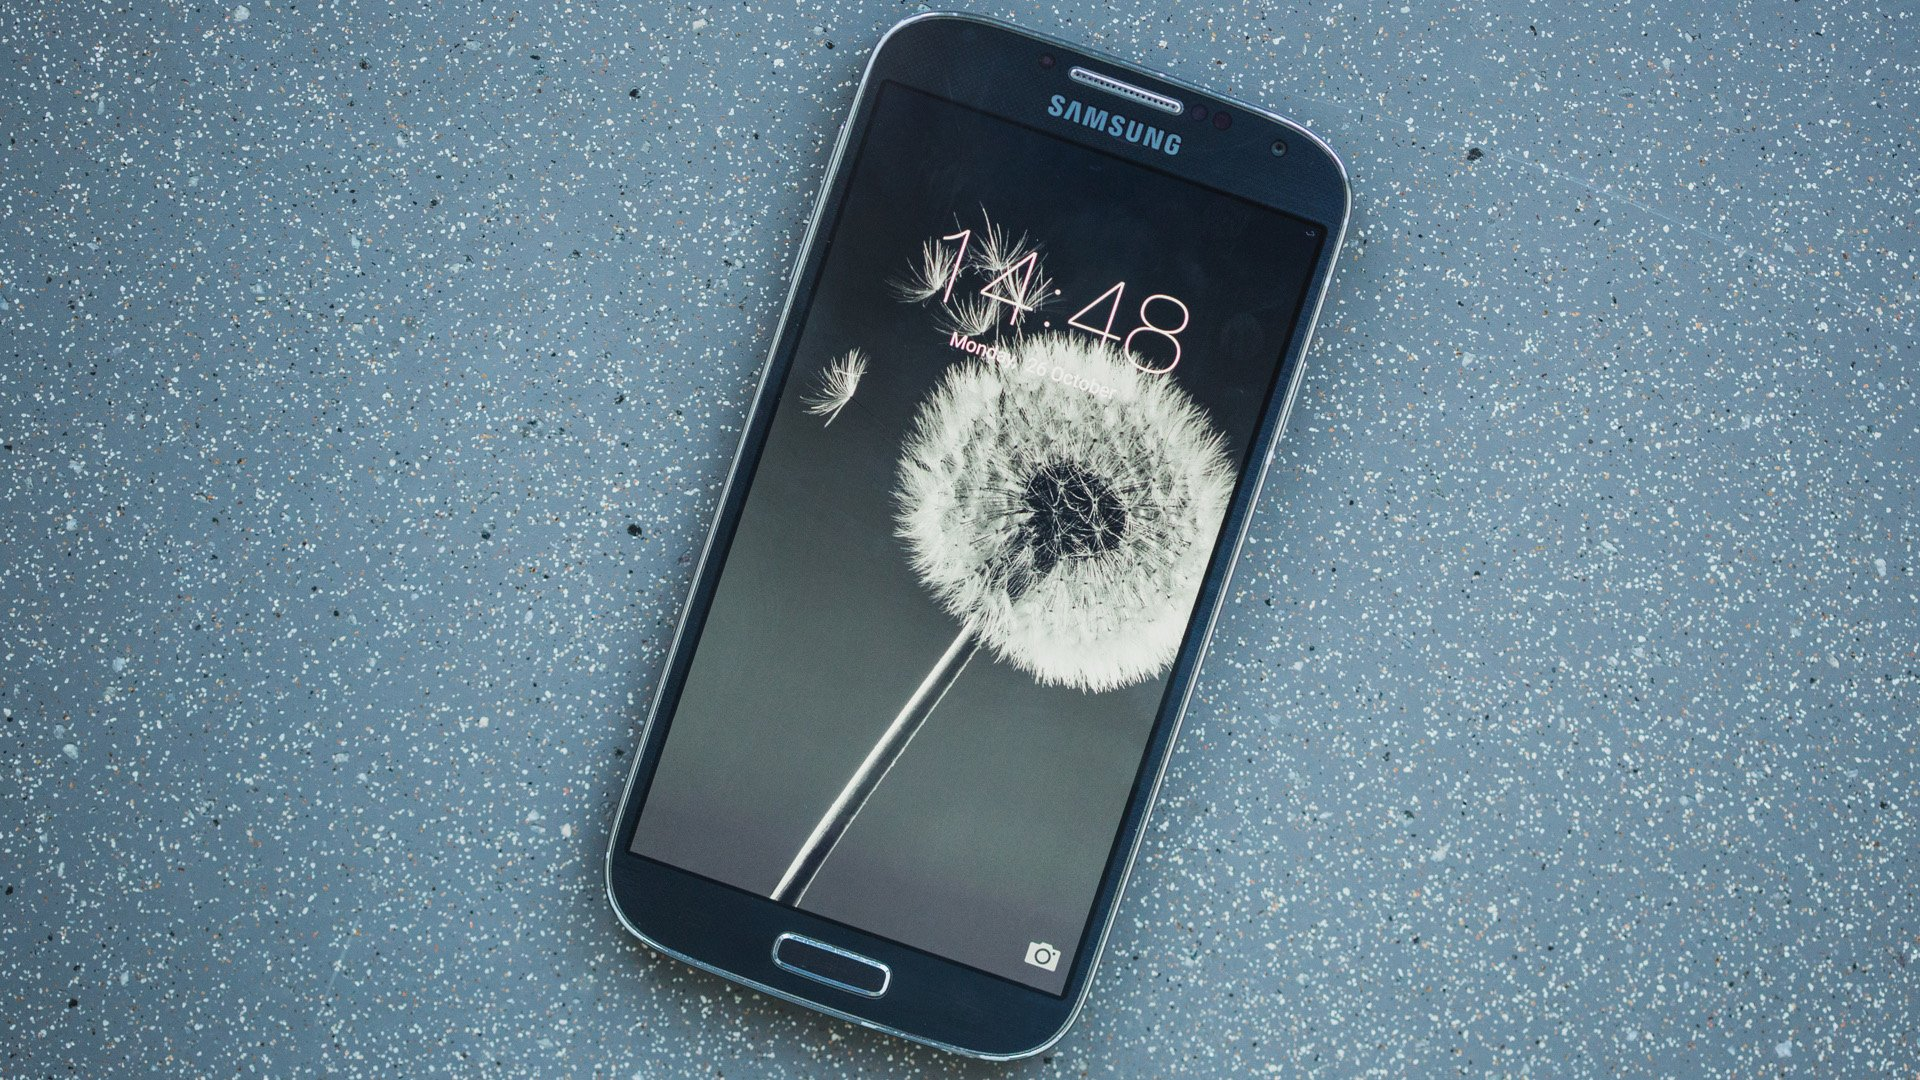smartphone: (604, 11, 1352, 1062)
